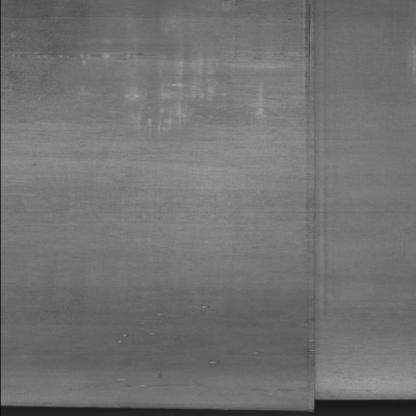welding_line: (286, 3, 328, 414)
